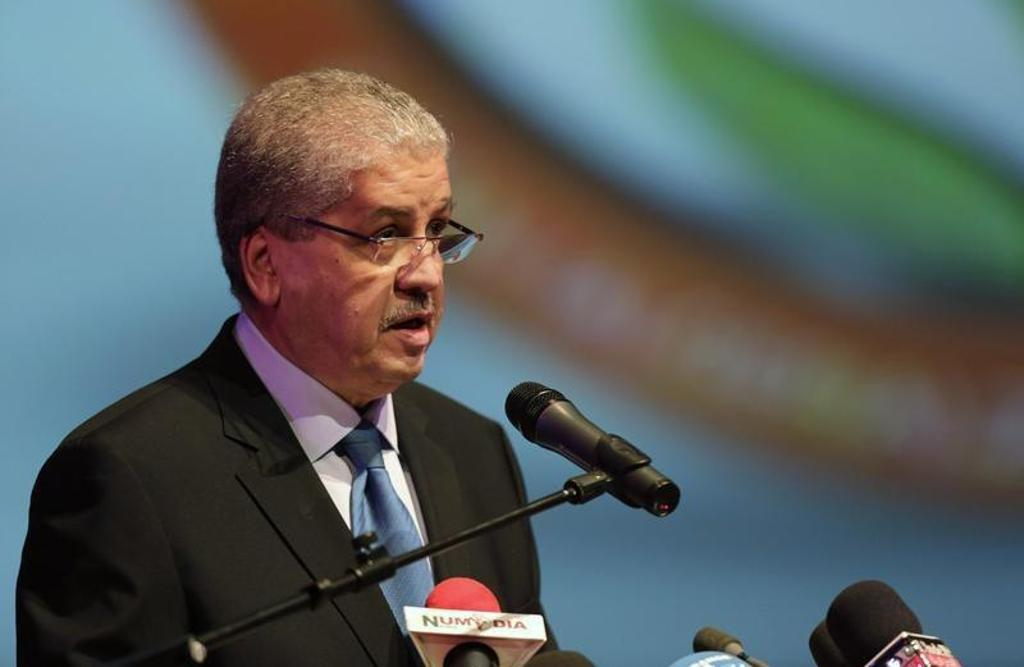face: (277, 139, 457, 387)
